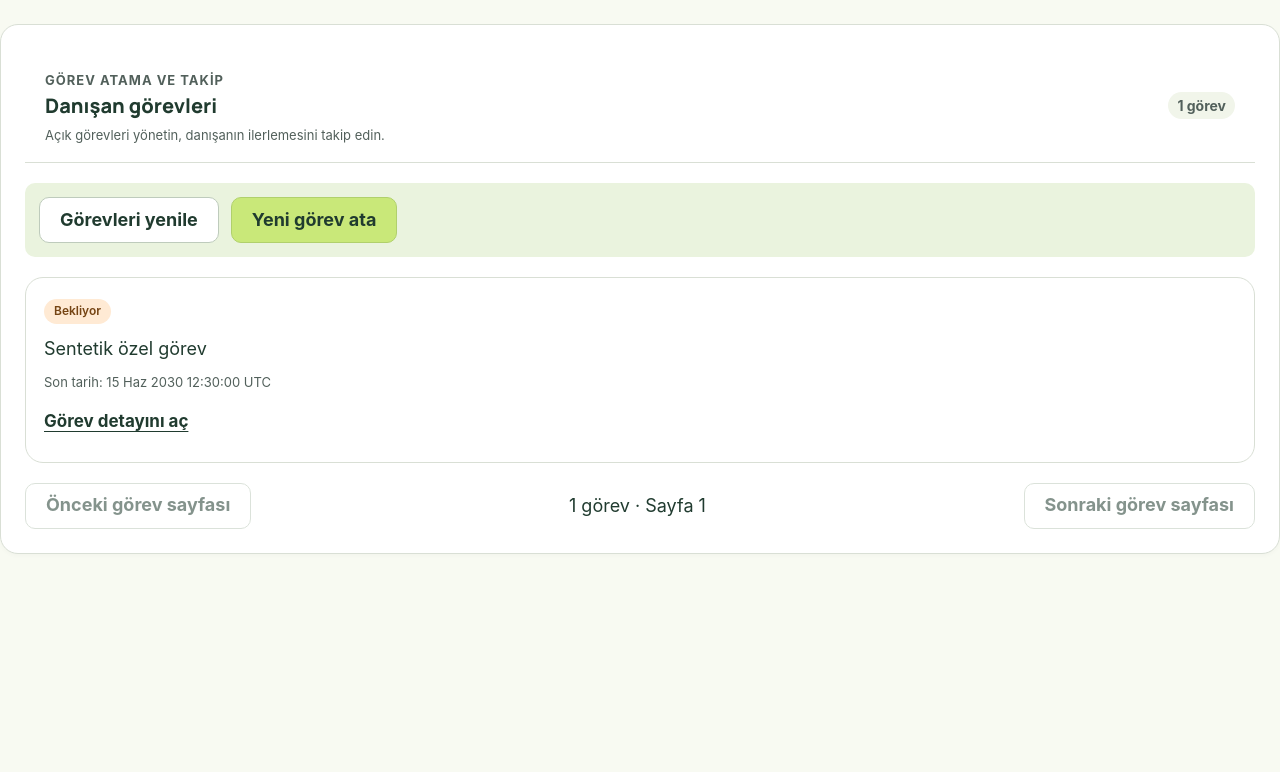
React task assignment and tracking › keeps the editor node, caret and focus through a delayed timer recheck and coalesces events
Click the button "Yeni görev ata". click: (314, 220)
box: [231,197,397,243]
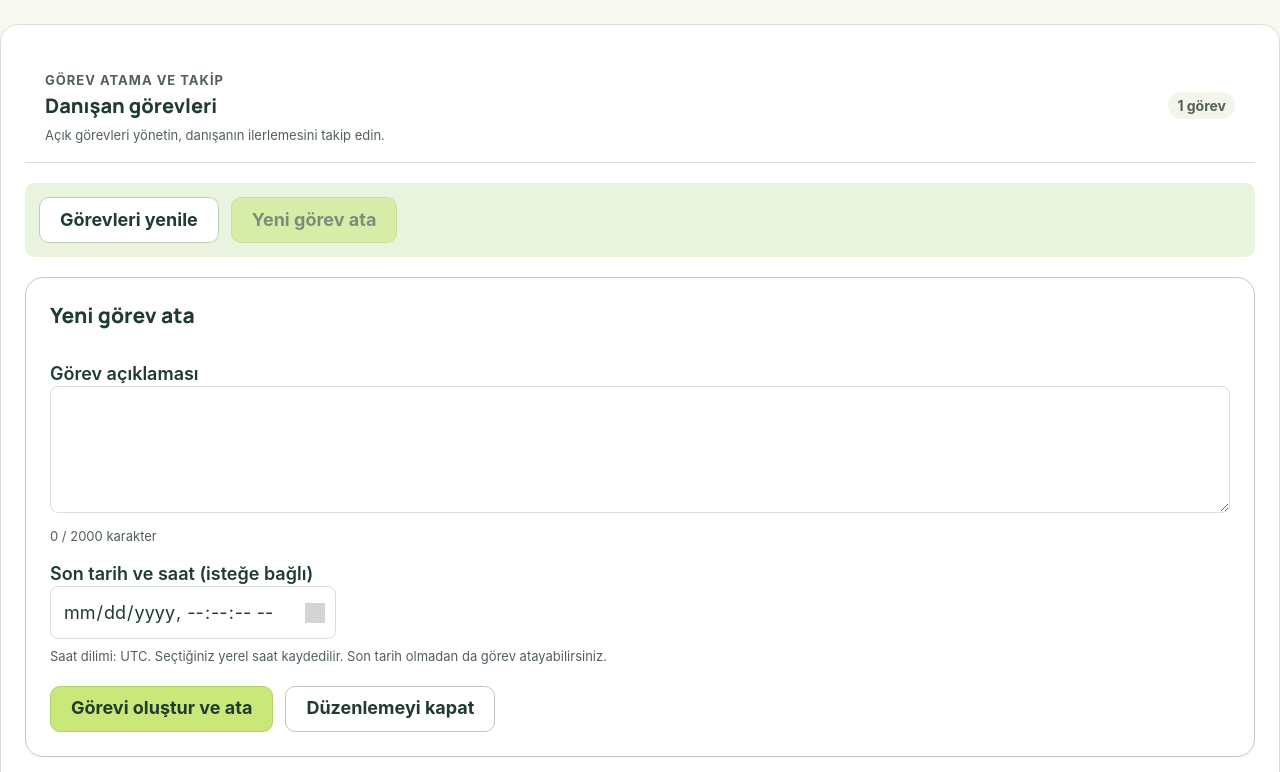
Type "Yazmaya devam ediyorum" into the text box labelled "Görev açıklaması". click: (640, 449)
box: [50,386,1230,513]
Wait 30000 ms
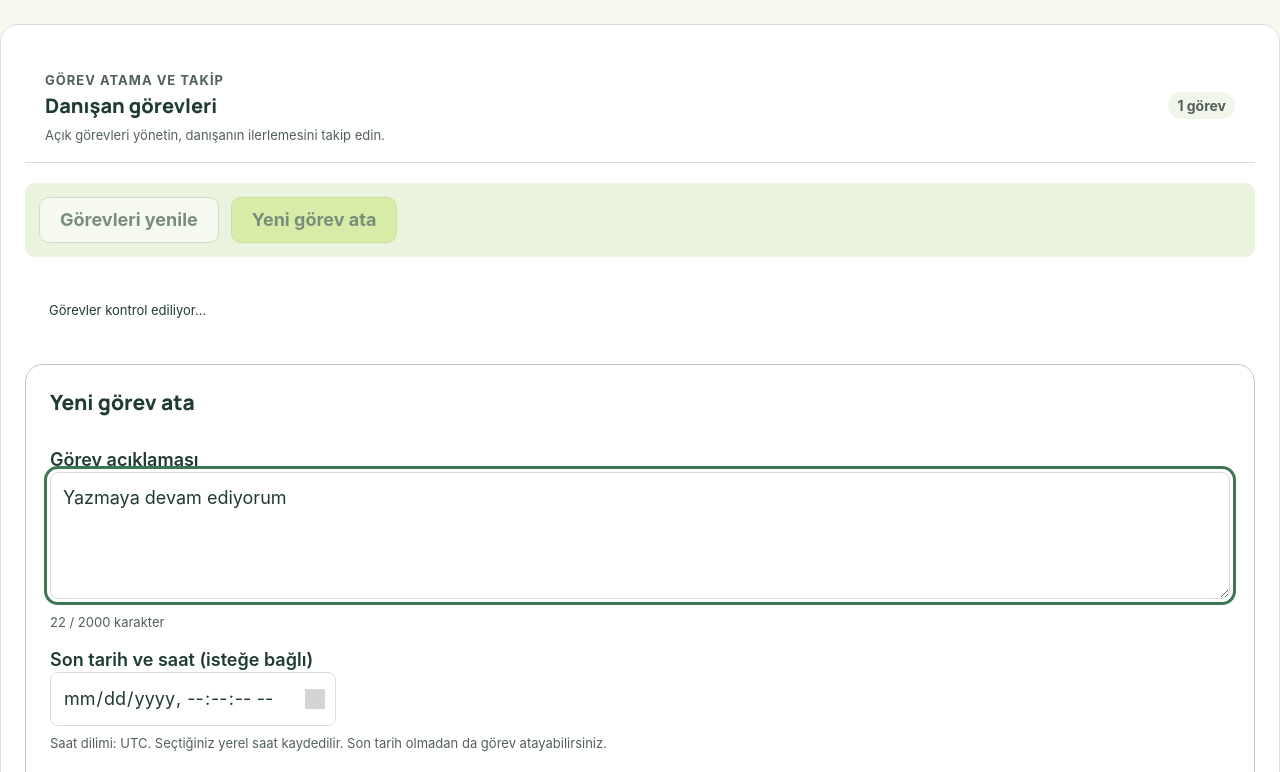
Check: the text box labelled "Görev açıklaması" is enabled
Replace the text in the text box labelled "Görev açıklaması" with "Yazmaya devam ediyorum ve bitirdim". click: (640, 535)
box: [50,472,1230,599]
Wait 60000 ms
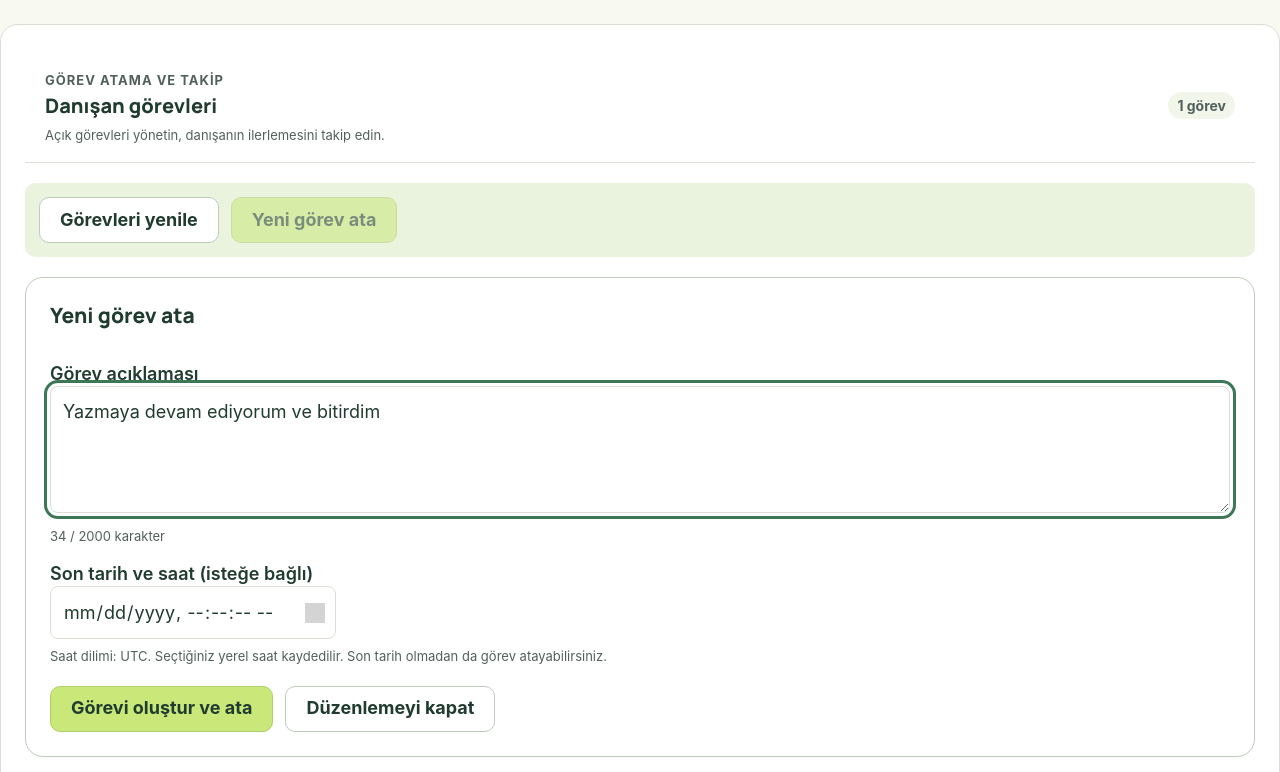
Check: the button "Görevi oluştur ve ata" is enabled, box [50,686,273,732]
